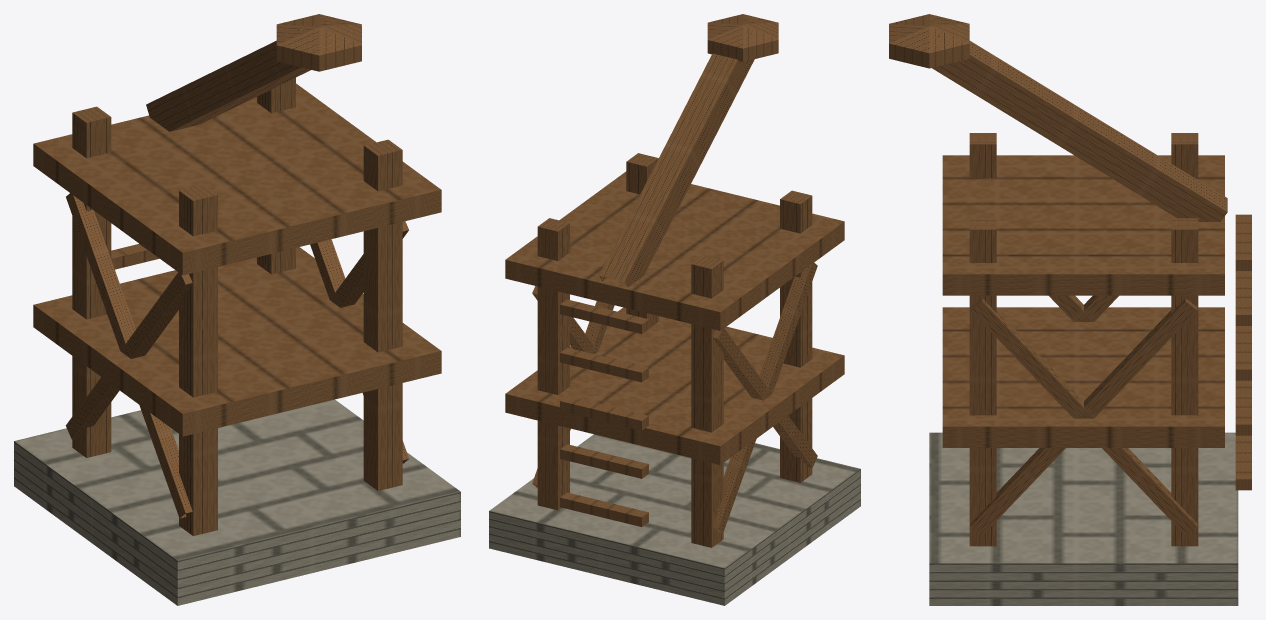
The model's file is military-CATAPULT_TOWER-1-lod0.glb.
The picture shows the model from 3 angles, left to right: view 1: azimuth 30°, elevation 25°; view 2: azimuth 150°, elevation 25°; view 3: azimuth 270°, elevation 25°; orthographic projection. The views are drawn at different scales.
Size of the model in its own units: 0.46 by 0.845 by 0.54.
1 material, 1 textured.
